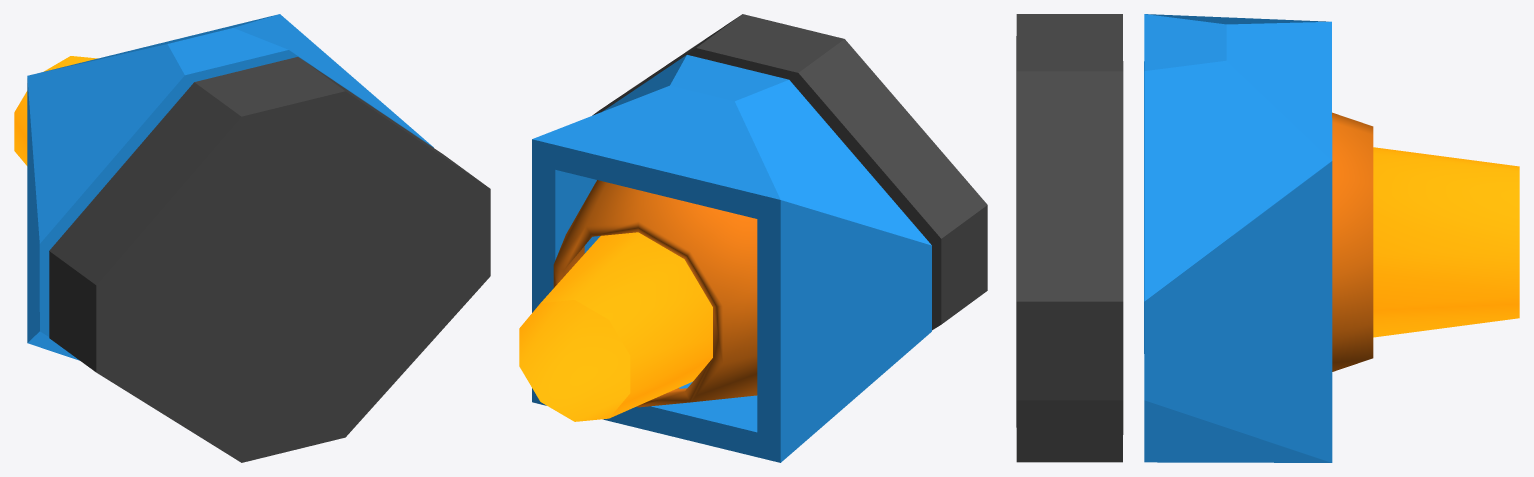
The model's file is teleport.glb.
3 renders of one model, left to right at view 1: azimuth 30°, elevation 25°; view 2: azimuth 150°, elevation 25°; view 3: azimuth 270°, elevation 25°, orthographic. The views are drawn at different scales.
Parts seen in each view (by area): view 1: Plane.007, boost-part.013; view 2: Plane.007, boost-part.013; view 3: Plane.007, boost-part.013.
Part boxes in pixels (x1,y1,x2,y2): Plane.007: (27, 14, 490, 462); boost-part.013: (14, 56, 97, 165); Plane.007: (532, 14, 987, 462); boost-part.013: (519, 232, 712, 421); Plane.007: (1016, 14, 1373, 462); boost-part.013: (1373, 147, 1519, 337).
Bounding box in the file's own units: 0.1713 × 0.1437 × 0.1675.
